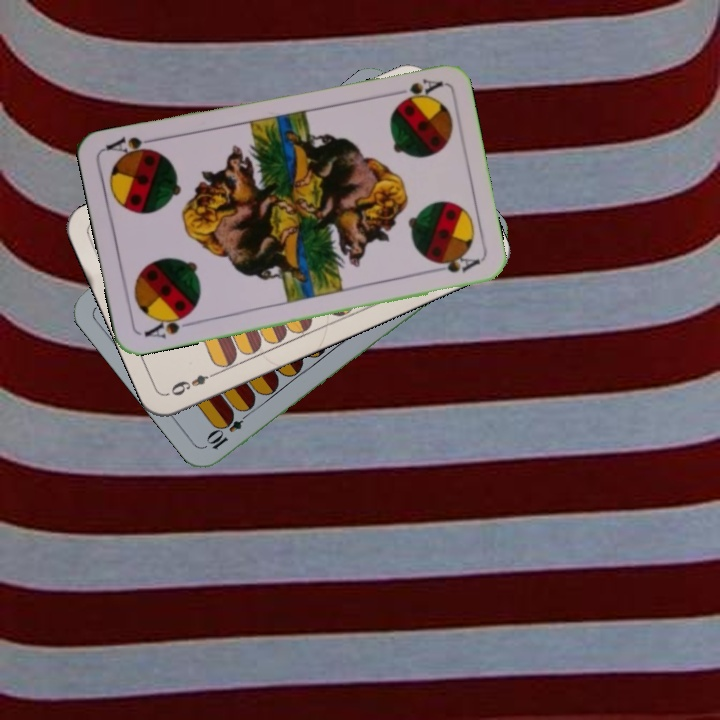E10: (203, 405, 254, 452)
E9: (167, 368, 221, 399)
SA: (140, 308, 195, 342), (386, 74, 445, 104)
